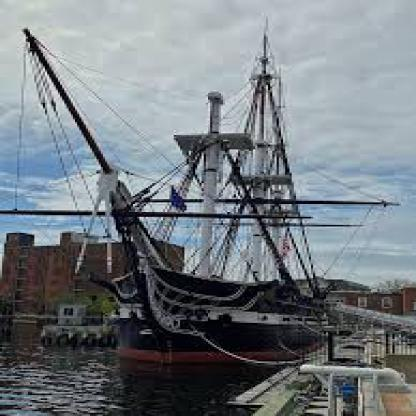Constitution: (4, 42, 414, 382)
